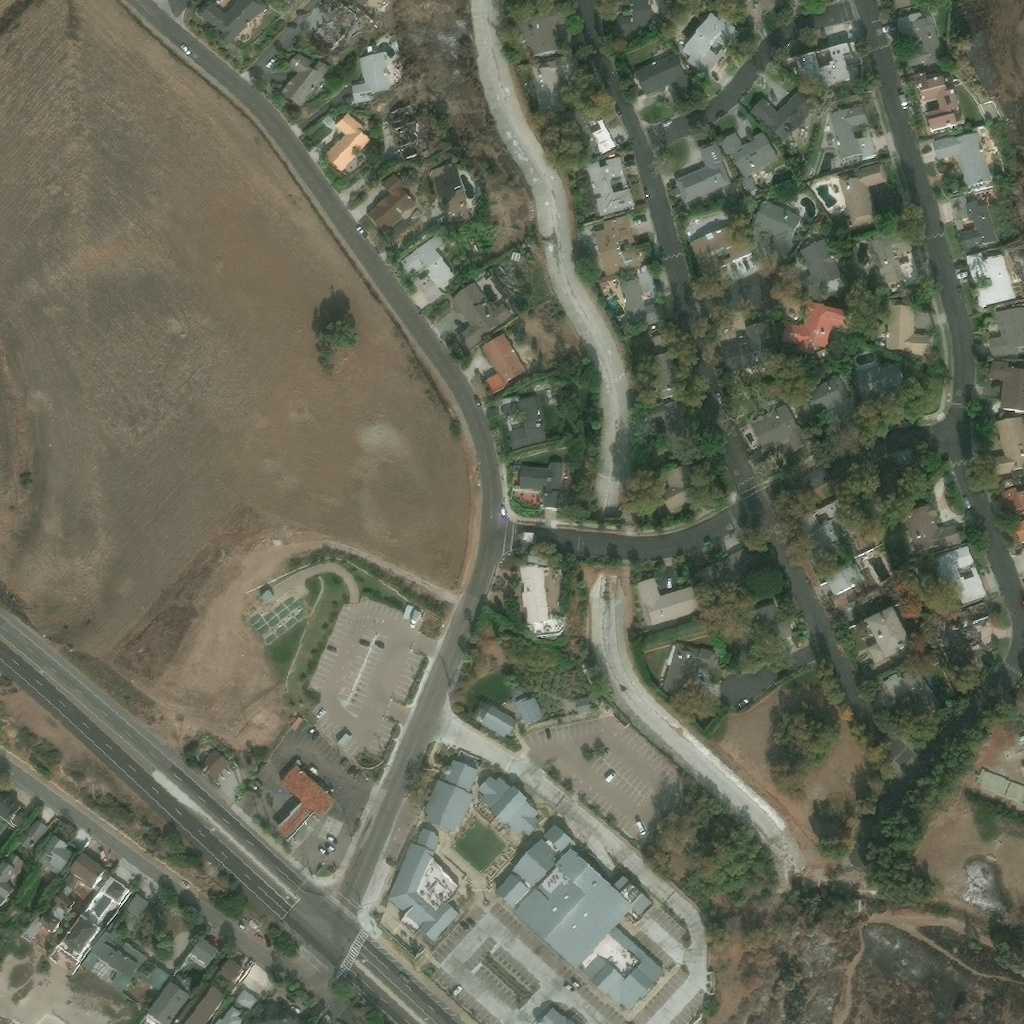0 no-damage: (493, 824, 665, 1012), (388, 828, 457, 942), (57, 877, 130, 962), (274, 767, 335, 843), (450, 282, 512, 353), (924, 601, 990, 665), (422, 759, 479, 833), (397, 233, 459, 295), (673, 141, 732, 204), (782, 301, 846, 359), (749, 88, 817, 142), (478, 776, 540, 835), (633, 579, 701, 631), (90, 931, 146, 993), (749, 403, 813, 457), (793, 41, 859, 92), (481, 332, 534, 395), (196, 0, 267, 46), (933, 130, 992, 185), (836, 163, 886, 227), (660, 642, 716, 699), (280, 51, 335, 109), (322, 112, 375, 172), (682, 12, 735, 72), (750, 199, 801, 261), (905, 503, 962, 558), (934, 545, 986, 605), (659, 462, 720, 513), (791, 375, 853, 425), (585, 156, 636, 216), (528, 55, 576, 118), (716, 321, 774, 372), (366, 171, 415, 231), (912, 72, 961, 132), (632, 52, 694, 99), (738, 601, 794, 653), (594, 214, 640, 277), (964, 251, 1015, 307), (830, 101, 878, 160), (884, 298, 931, 358), (865, 606, 913, 664), (718, 131, 777, 177), (870, 225, 915, 285), (512, 461, 563, 512), (687, 226, 754, 264), (647, 400, 694, 454), (796, 238, 842, 293), (730, 0, 791, 41), (896, 669, 942, 723), (517, 5, 566, 54), (853, 363, 907, 406), (641, 335, 675, 403), (506, 395, 547, 450), (901, 17, 943, 68), (620, 278, 661, 330), (173, 982, 225, 1023), (571, 100, 608, 157), (958, 200, 998, 252), (990, 415, 1023, 477), (519, 563, 551, 625), (351, 53, 389, 103), (145, 981, 189, 1023), (987, 361, 1023, 412), (986, 307, 1023, 356), (37, 886, 75, 932), (611, 0, 656, 36), (35, 835, 73, 875), (807, 516, 845, 552), (1000, 487, 1023, 543), (250, 1000, 303, 1023), (825, 564, 864, 595), (70, 852, 103, 888), (726, 549, 758, 586), (480, 706, 517, 737), (16, 819, 48, 851), (187, 938, 219, 968), (198, 748, 228, 779), (514, 695, 543, 727), (593, 120, 616, 154), (217, 957, 243, 983), (537, 1005, 574, 1023), (127, 893, 152, 919), (145, 966, 169, 990), (892, 0, 931, 14), (214, 1005, 242, 1023), (236, 989, 258, 1010), (678, 0, 706, 16), (1008, 548, 1023, 575), (880, 578, 900, 598), (259, 589, 275, 604), (867, 598, 880, 615), (575, 700, 590, 713), (409, 608, 422, 621)
1 minor-damage: (431, 164, 471, 227)
3 destroyed: (311, 0, 359, 50), (389, 104, 422, 160)
4 un-classified: (354, 0, 366, 5)
